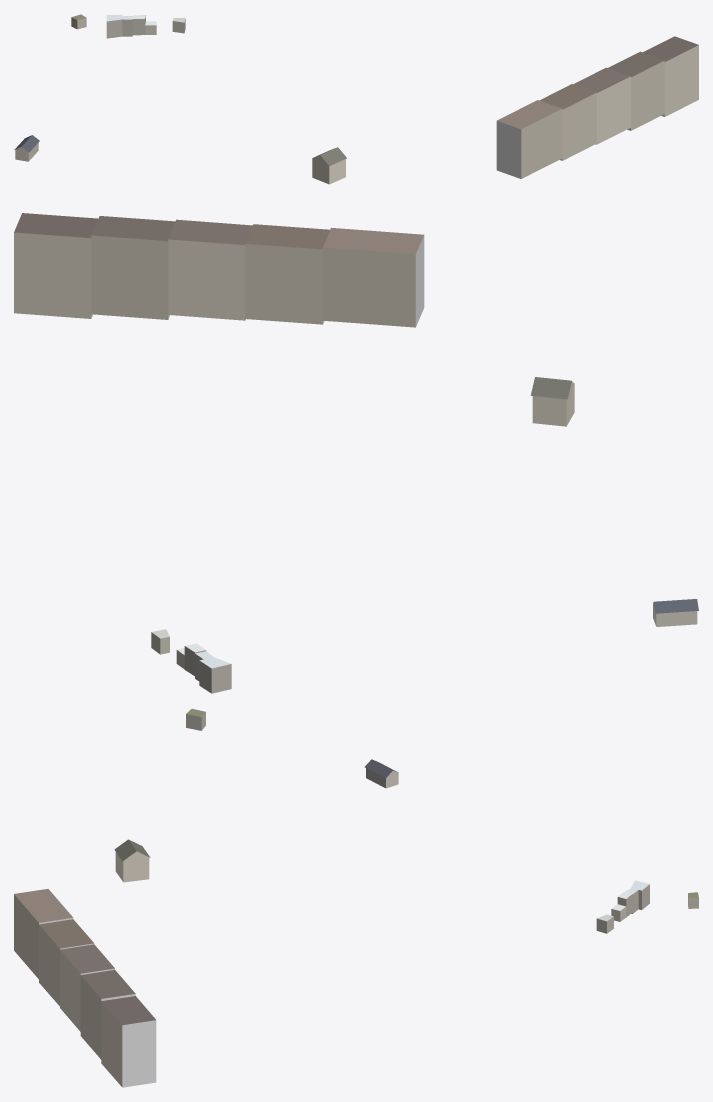
3 views of the same model, one above another, from view 1: azimuth 30°, elevation 25°; view 2: azimuth 150°, elevation 25°; view 3: azimuth 270°, elevation 25° (orthographic). The views are drawn at different scales.
Parts seen in each view (by area): view 1: tuile; view 2: tuile; view 3: tuile.
Boxes of the visible parts, bbox=[...] form: tuile: bbox=[14, 14, 698, 184]; tuile: bbox=[14, 213, 698, 730]; tuile: bbox=[14, 759, 698, 1087].
Size of the model in its own units: 225 by 30.38 by 205.
